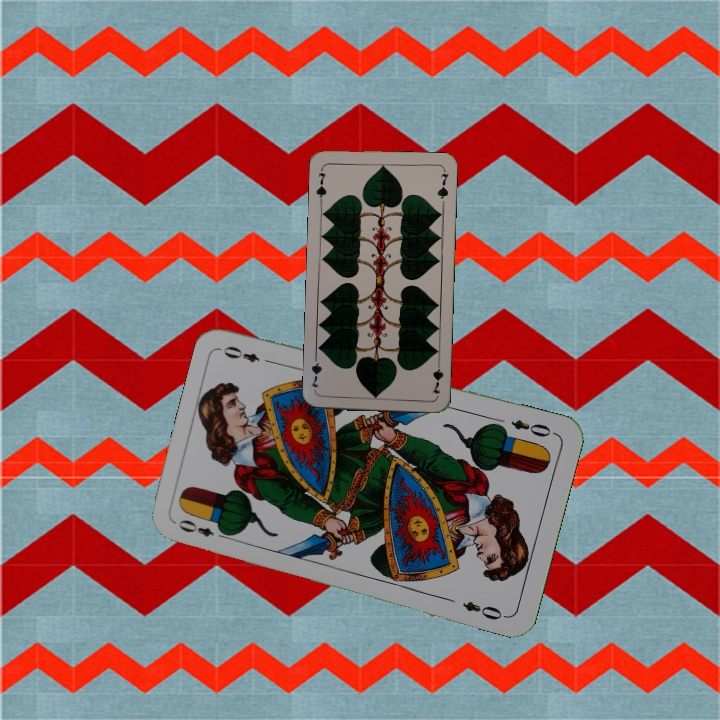EO: (174, 515, 231, 542), (507, 415, 554, 440)
G7: (428, 356, 446, 396), (312, 164, 329, 204)
